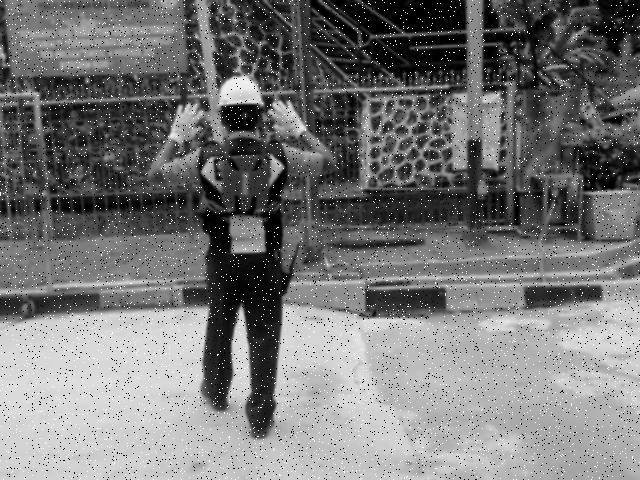gloves: (165, 98, 207, 146), (266, 100, 309, 143)
helmet: (216, 73, 267, 111)
safety-shoes: (195, 372, 231, 414), (248, 405, 279, 442)
vest: (219, 153, 272, 216)
